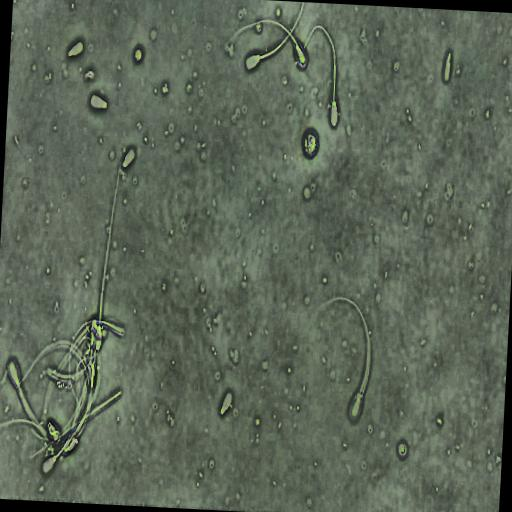dirt-particles: (300, 124, 321, 160), (133, 45, 144, 66), (83, 66, 95, 82), (160, 81, 170, 96)
loose-head: (219, 390, 234, 418), (442, 47, 453, 84), (121, 145, 137, 170), (89, 92, 108, 111), (67, 39, 84, 58)
normal: (322, 297, 371, 416), (94, 162, 121, 350), (299, 20, 342, 132), (242, 4, 305, 76)
